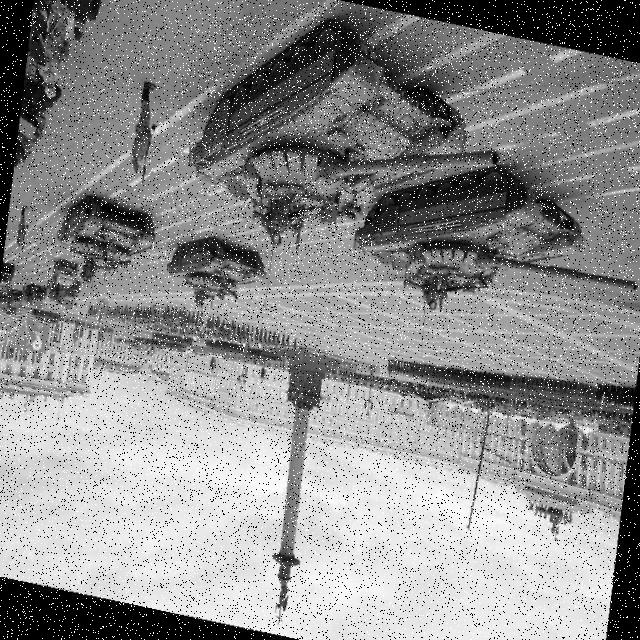MIL_MBT: (188, 16, 501, 257), (354, 168, 638, 312), (57, 193, 155, 273), (167, 239, 265, 308)
